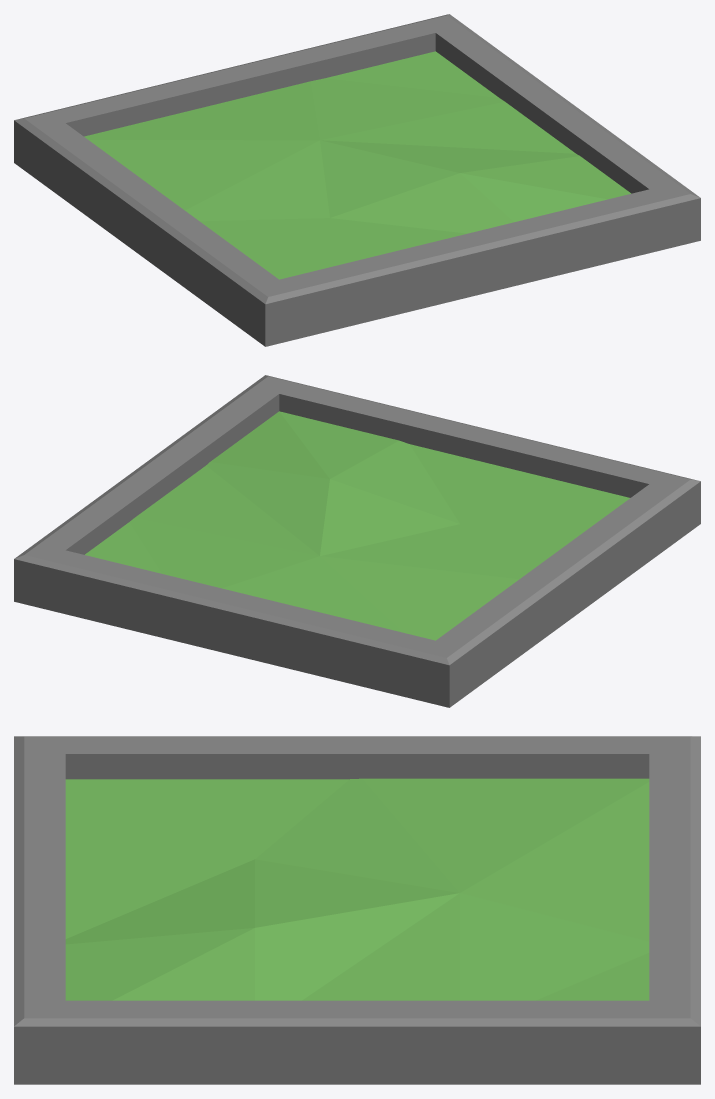
Rendered from Flowerbed_07.fbx.
The picture shows the model from 3 angles, top to bottom: view 1: azimuth 30°, elevation 25°; view 2: azimuth 150°, elevation 25°; view 3: azimuth 270°, elevation 25°; orthographic projection. The views are drawn at different scales.
Visible parts, largest first — view 1: Flowerbed_07; view 2: Flowerbed_07; view 3: Flowerbed_07.
Part boxes in pixels (x1,y1,x2,y2): Flowerbed_07: (14, 14, 700, 346); Flowerbed_07: (14, 375, 700, 707); Flowerbed_07: (14, 736, 700, 1084).
Bounding box in the file's own units: 150 × 15 × 150.
